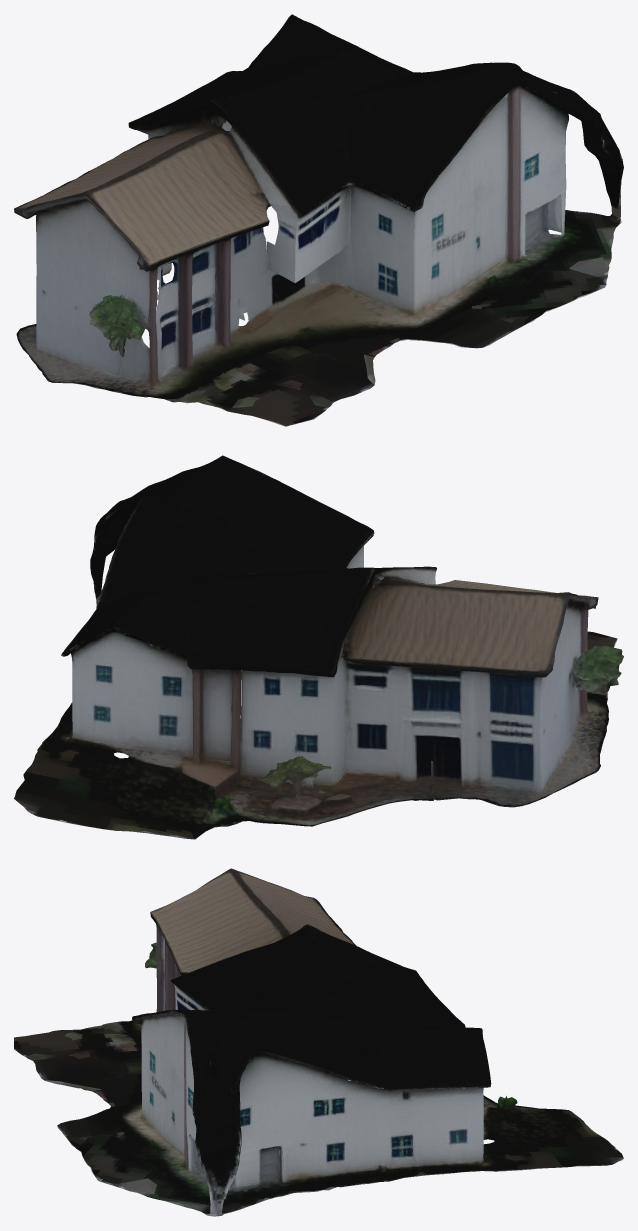
3 renders of one model, top to bottom at view 1: azimuth 30°, elevation 25°; view 2: azimuth 150°, elevation 25°; view 3: azimuth 270°, elevation 25°, orthographic. The views are drawn at different scales.
Bounding box in the file's own units: 0.9078 × 0.3414 × 0.9975.
1 material, 1 textured.
